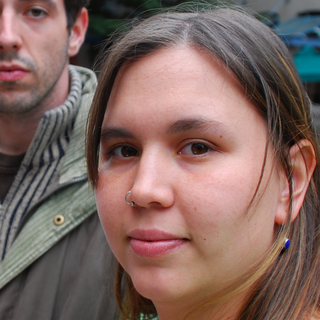eye: (168, 134, 225, 162), (104, 139, 147, 164), (16, 2, 54, 26)
